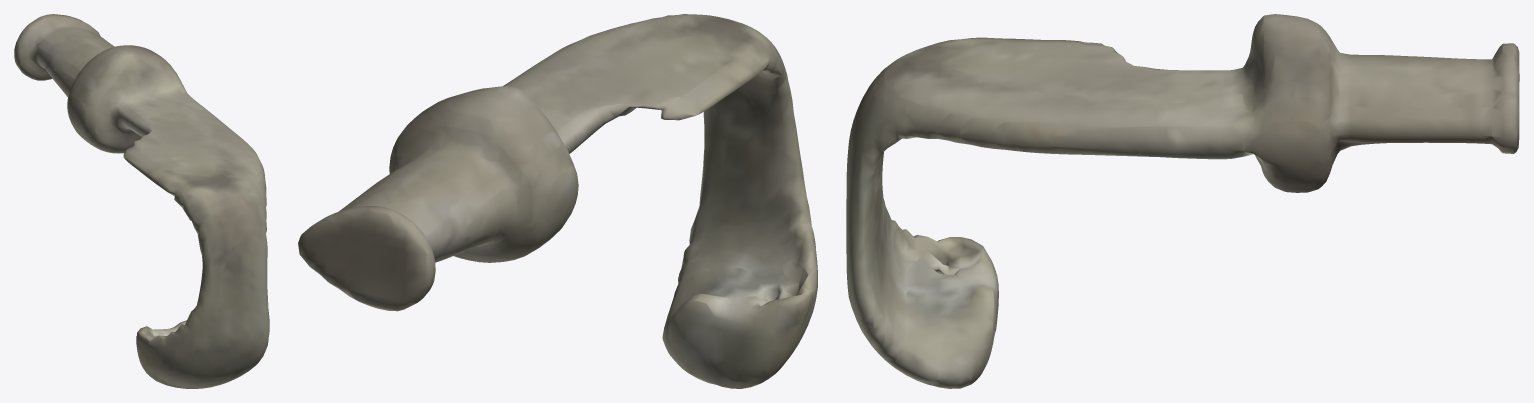
Rendered from a faucet with affordances of grasp, open.obj.
3 renders of one model, left to right at view 1: azimuth 30°, elevation 25°; view 2: azimuth 150°, elevation 25°; view 3: azimuth 270°, elevation 25°, orthographic. The views are drawn at different scales.
Size of the model in its own units: 0.3841 by 0.6324 by 1.
